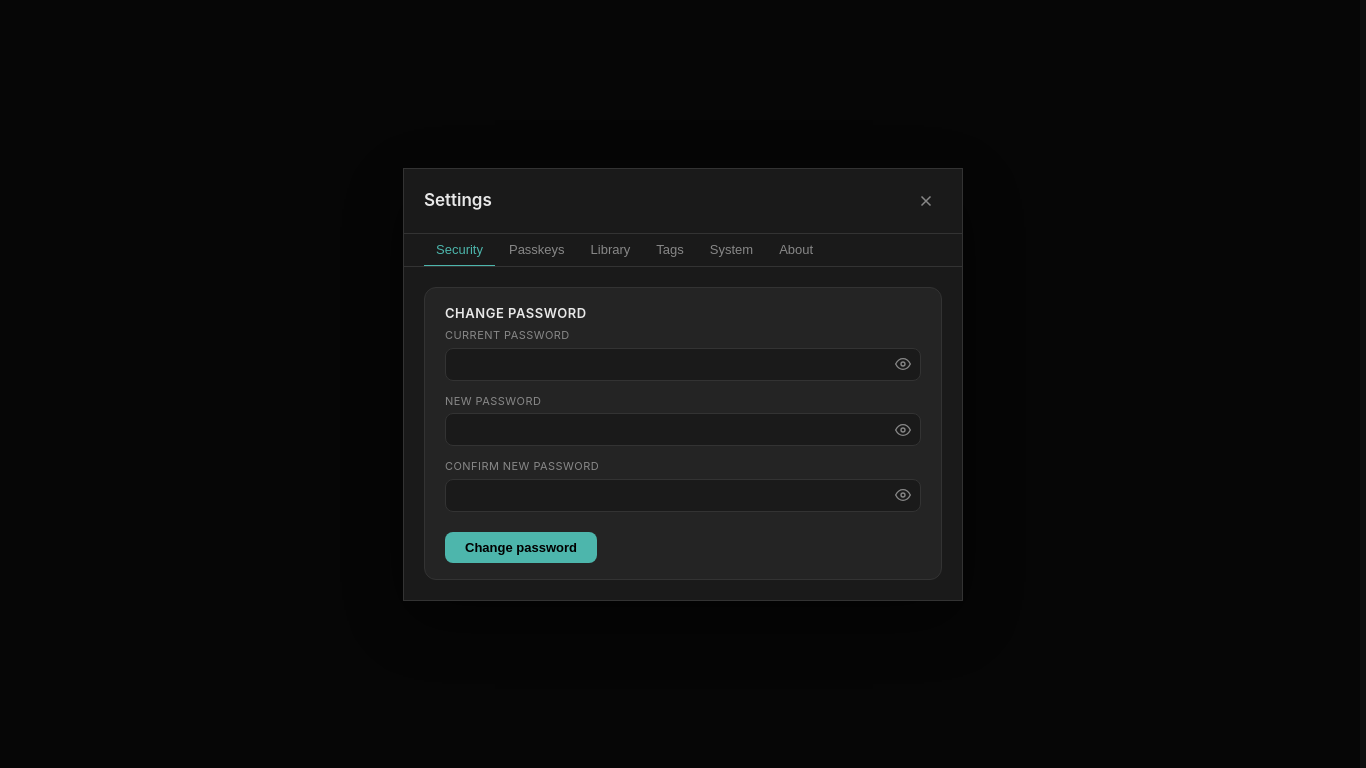
SettingsModal — passkeys tab › loads and renders passkeys when the tab is activated
The width and height of the screenshot is (1366, 768).
What coordinates should you click on to do the following:
click the tab "Passkeys"
I would click on:
 (537, 250)
Its box is [497,234,577,266].
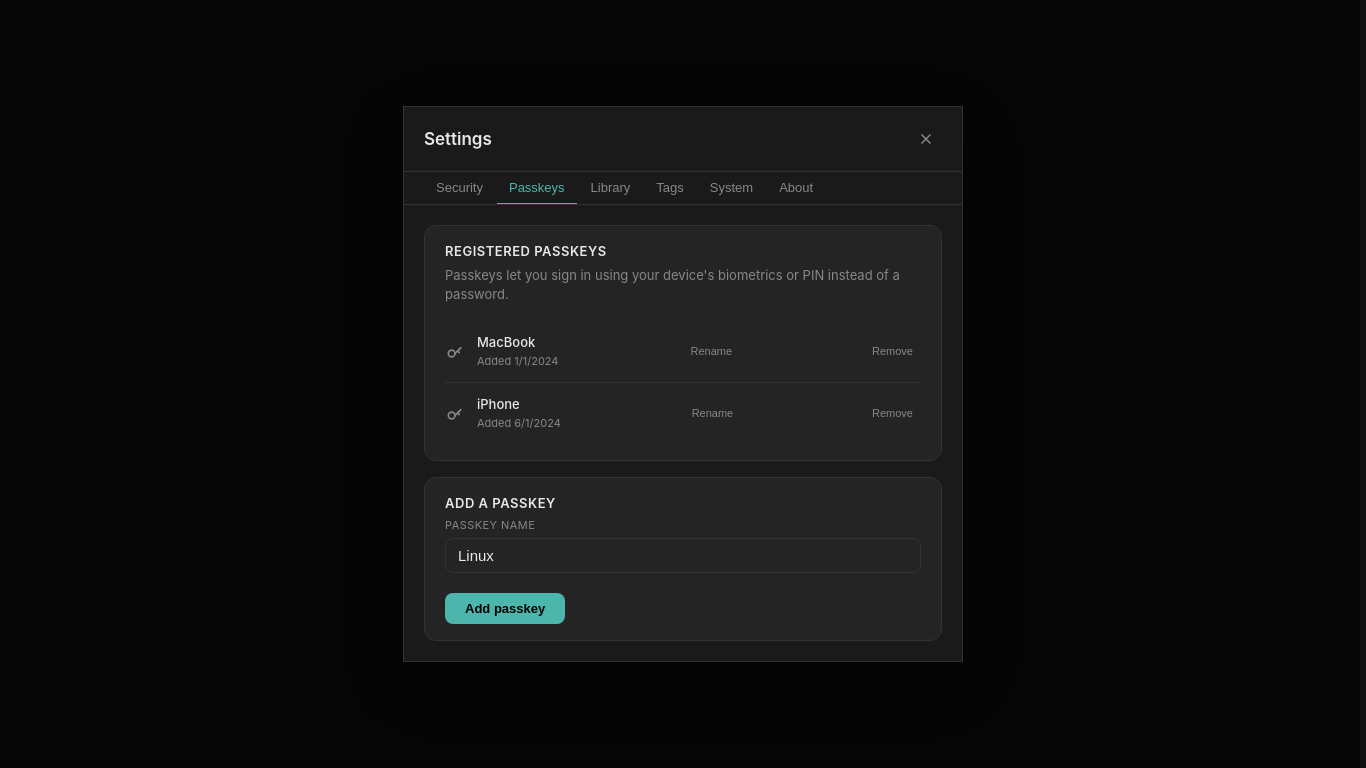
Result: the text "MacBook" is shown at [477,334,535,350]
Result: the text "iPhone" is shown at [477,396,520,412]
